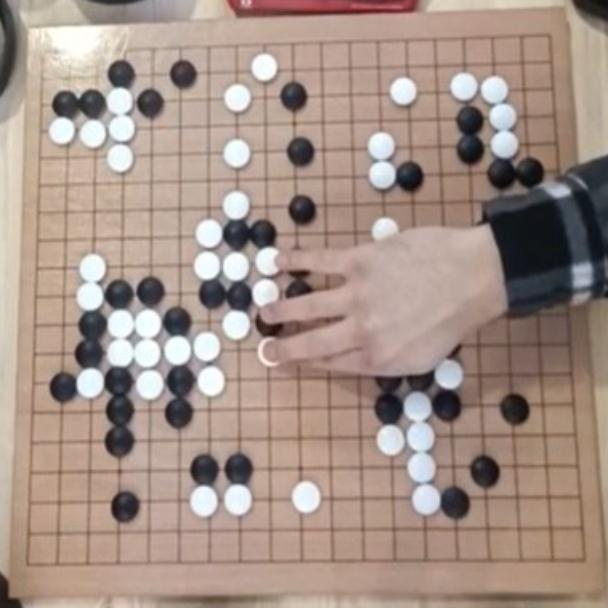corners: (570, 539, 599, 576), (33, 39, 58, 77), (16, 553, 43, 581), (542, 18, 560, 50)
